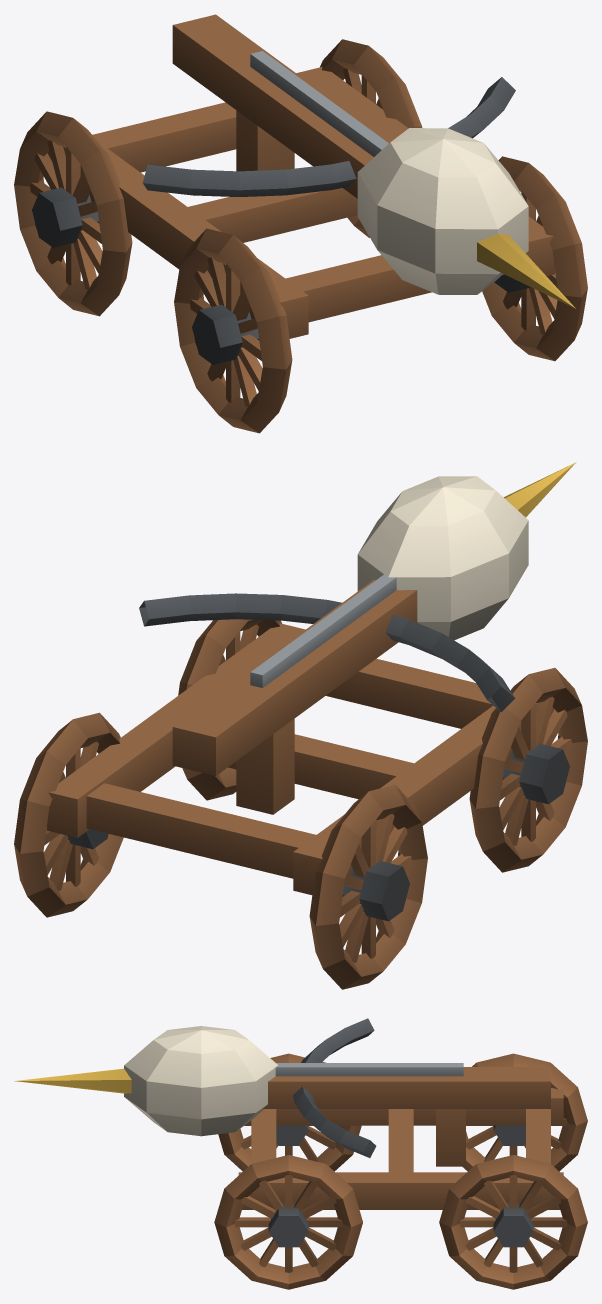
Rendered from F_BALLIS.glb.
3 renders of one model, top to bottom at view 1: azimuth 30°, elevation 25°; view 2: azimuth 150°, elevation 25°; view 3: azimuth 270°, elevation 25°, orthographic. The views are drawn at different scales.
Visible parts, largest first — view 1: Body, Wheel_0, Wheel_2, Wheel_1, Wheel_3; view 2: Body, Wheel_2, Wheel_0, Wheel_3, Wheel_1; view 3: Body, Wheel_3, Wheel_1, Wheel_2, Wheel_0.
Boxes of the visible parts, bbox=[...] form: Body: bbox=[47, 14, 575, 338]; Wheel_0: bbox=[174, 228, 292, 433]; Wheel_2: bbox=[14, 111, 132, 316]; Wheel_1: bbox=[482, 156, 587, 361]; Wheel_3: bbox=[320, 39, 422, 237]; Body: bbox=[47, 462, 576, 894]; Wheel_2: bbox=[309, 785, 427, 989]; Wheel_0: bbox=[469, 668, 587, 872]; Wheel_3: bbox=[14, 712, 123, 917]; Wheel_1: bbox=[178, 619, 281, 800]; Body: bbox=[14, 1018, 563, 1209]; Wheel_3: bbox=[439, 1155, 587, 1289]; Wheel_1: bbox=[214, 1155, 362, 1289]; Wheel_2: bbox=[462, 1053, 587, 1171]; Wheel_0: bbox=[218, 1053, 361, 1171].
Bounding box in the file's own units: 1.22 × 0.923 × 2.3.
1 material, 1 textured.
